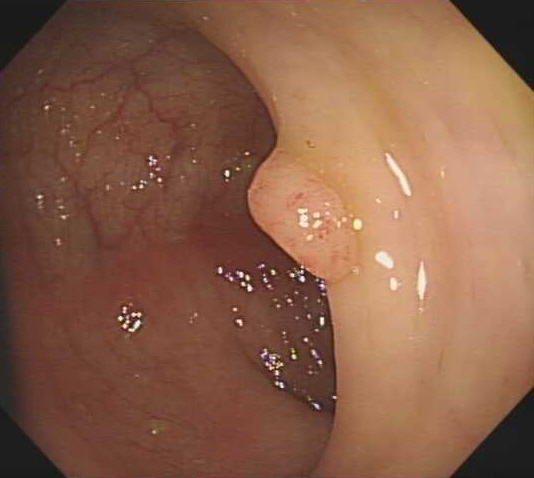adenoma: (244, 149, 364, 286)
